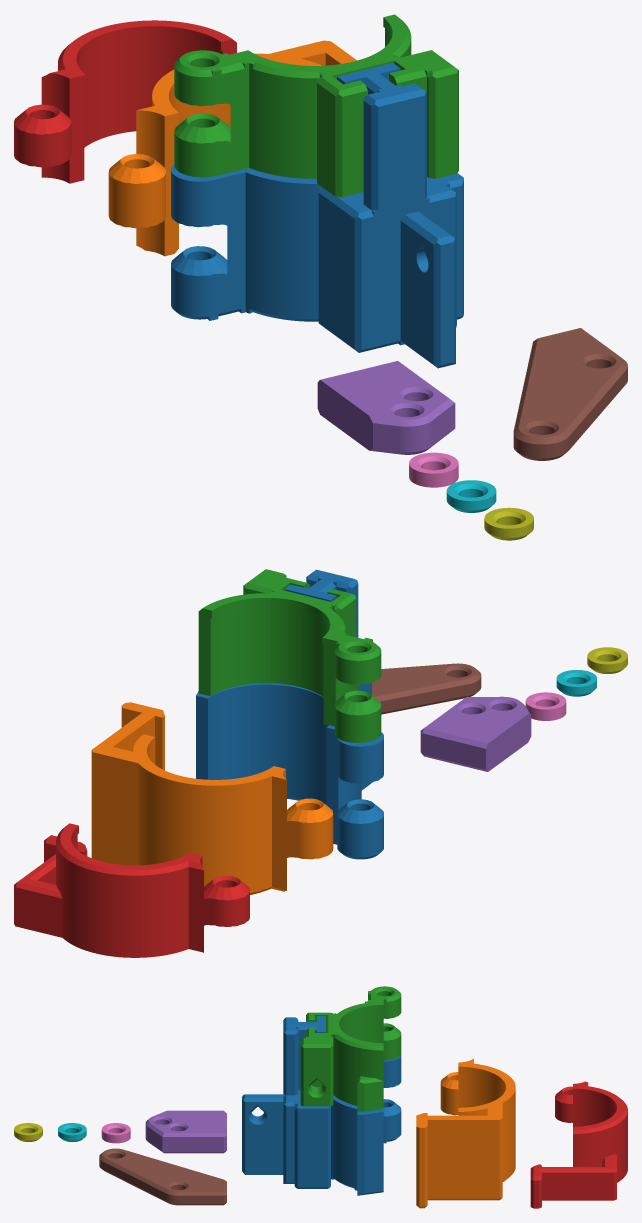
File: clamp.glb
3 renders of one model, top to bottom at view 1: azimuth 30°, elevation 25°; view 2: azimuth 150°, elevation 25°; view 3: azimuth 270°, elevation 25°, orthographic. The views are drawn at different scales.
Parts seen in each view (by area): view 1: cradle, cart-body, cart-door, battery-door, link, lever, cap-pivot, cap-crank, cap-link; view 2: battery-door, cradle, cart-door, cart-body, lever, link, cap-pivot, cap-link, cap-crank; view 3: cradle, battery-door, cart-body, cart-door, link, lever, cap-pivot, cap-link, cap-crank.
Boxes of the visible parts, x1,y1,x2,y2 form: cradle: (171,63,463,368); cart-body: (174,14,458,197); cart-door: (14,20,236,183); battery-door: (108,40,356,256); link: (513,328,627,460); lever: (317,361,455,454); cap-pivot: (409,452,458,487); cap-crank: (446,480,496,512); cap-link: (484,507,533,540); battery-door: (91,702,333,894); cradle: (196,569,383,859); cart-door: (14,823,249,957); cart-body: (198,569,381,742); lever: (420,696,531,771); link: (372,663,481,714); cap-pivot: (525,692,566,720); cap-link: (587,647,627,673); cap-crank: (556,670,596,696); cradle: (242,1016,401,1195); battery-door: (416,1058,515,1208); cart-body: (300,986,401,1111); cart-door: (530,1081,627,1208); link: (99,1148,226,1205); lever: (145,1110,226,1153); cap-pivot: (101,1123,130,1143); cap-link: (14,1123,42,1141); cap-crank: (58,1123,86,1141).
Size of the model in its own units: 0.0253 by 0.0213 by 0.0818.
